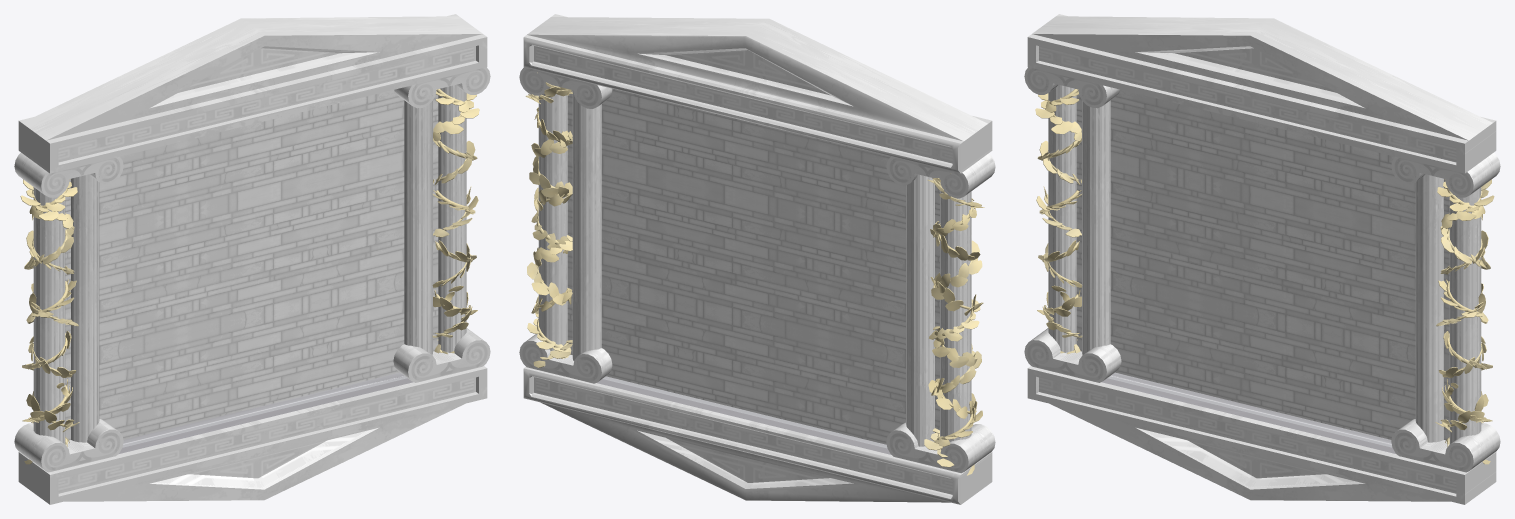
The model's file is Greco-RomanFloorRoomCover.fbx.
3 views of the same model, side by side, from view 1: azimuth 30°, elevation 25°; view 2: azimuth 150°, elevation 25°; view 3: azimuth 330°, elevation 25° (orthographic).
Parts seen in each view (by area): view 1: Cylinder.010; view 2: Cylinder.010; view 3: Cylinder.010.
Part boxes in pixels (<box>): Cylinder.010: <box>14,14,490,504</box>; Cylinder.010: <box>519,14,995,504</box>; Cylinder.010: <box>1024,14,1500,504</box>.
Bounding box in the file's own units: 5543 × 5421 × 710.
Materials: 2 (2 with a texture image).
